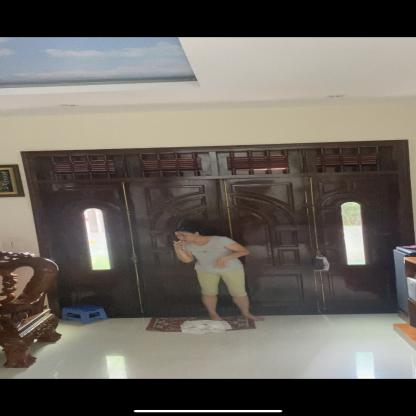cigarette: (173, 240, 182, 244)
person: (172, 228, 262, 327)
